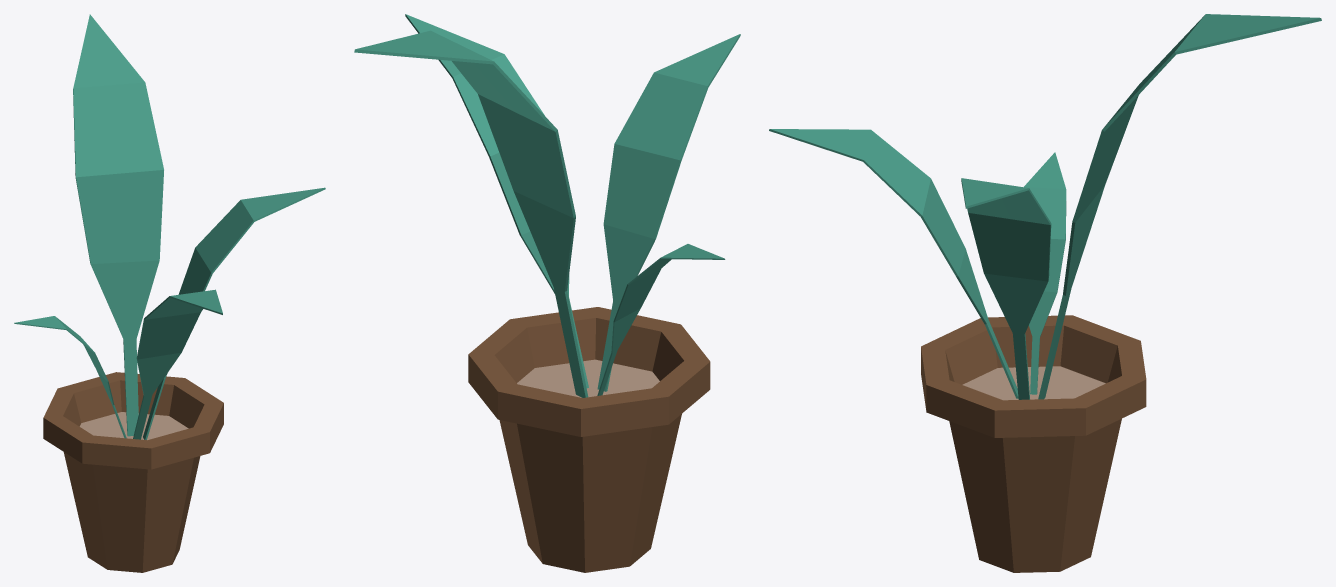
File: Flower_53.fbx
3 renders of one model, left to right at view 1: azimuth 30°, elevation 25°; view 2: azimuth 150°, elevation 25°; view 3: azimuth 270°, elevation 25°, orthographic. The views are drawn at different scales.
Parts seen in each view (by area): view 1: Flower_53; view 2: Flower_53; view 3: Flower_53.
Boxes of the visible parts, x1,y1,x2,y2 form: Flower_53: [14, 14, 325, 572]; Flower_53: [354, 14, 740, 572]; Flower_53: [769, 14, 1321, 572].
Bounding box in the file's own units: 58.18 × 77.52 × 88.69.
